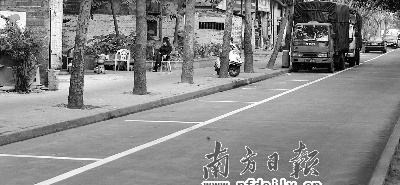slot_nocar: (2, 110, 210, 165), (111, 93, 267, 131), (196, 82, 298, 109), (236, 76, 312, 97), (267, 63, 335, 83)
